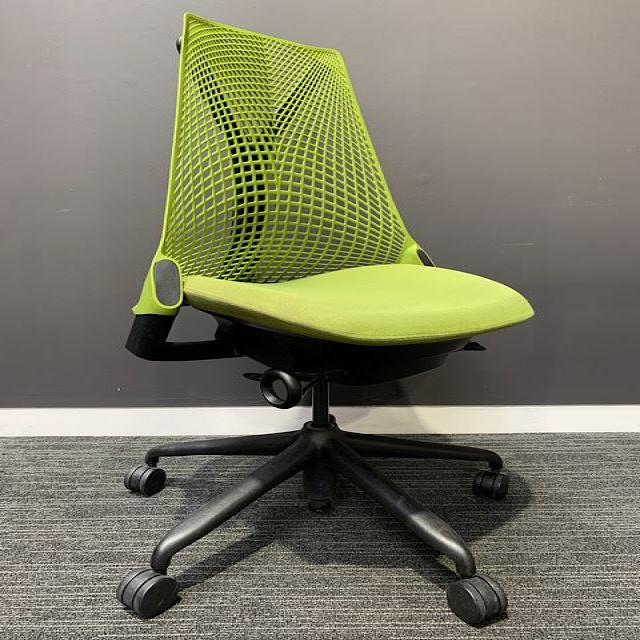chair: (25, 0, 640, 640)
